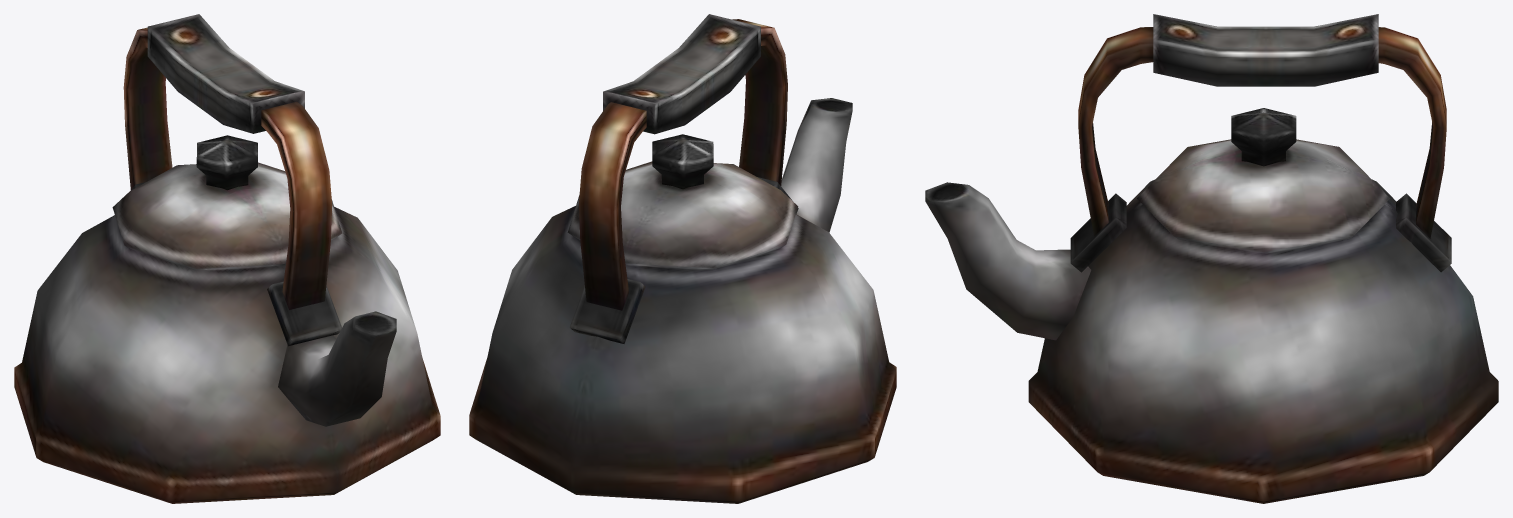
The model's file is SM_teapot_00.gltf.
3 views of the same model, side by side, from view 1: azimuth 30°, elevation 25°; view 2: azimuth 150°, elevation 25°; view 3: azimuth 270°, elevation 25° (orthographic). The views are drawn at different scales.
Parts seen in each view (by area): view 1: SM_teapot_00; view 2: SM_teapot_00; view 3: SM_teapot_00.
Part boxes in pixels (<box>): SM_teapot_00: <box>14,14,440,503</box>; SM_teapot_00: <box>469,14,896,503</box>; SM_teapot_00: <box>925,14,1498,503</box>.
Size of the model in its own units: 0.3985 by 0.3561 by 0.486.
1 material, 1 textured.
